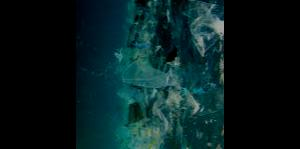Plastic: (184, 0, 223, 58), (110, 60, 178, 91), (112, 124, 163, 148)
